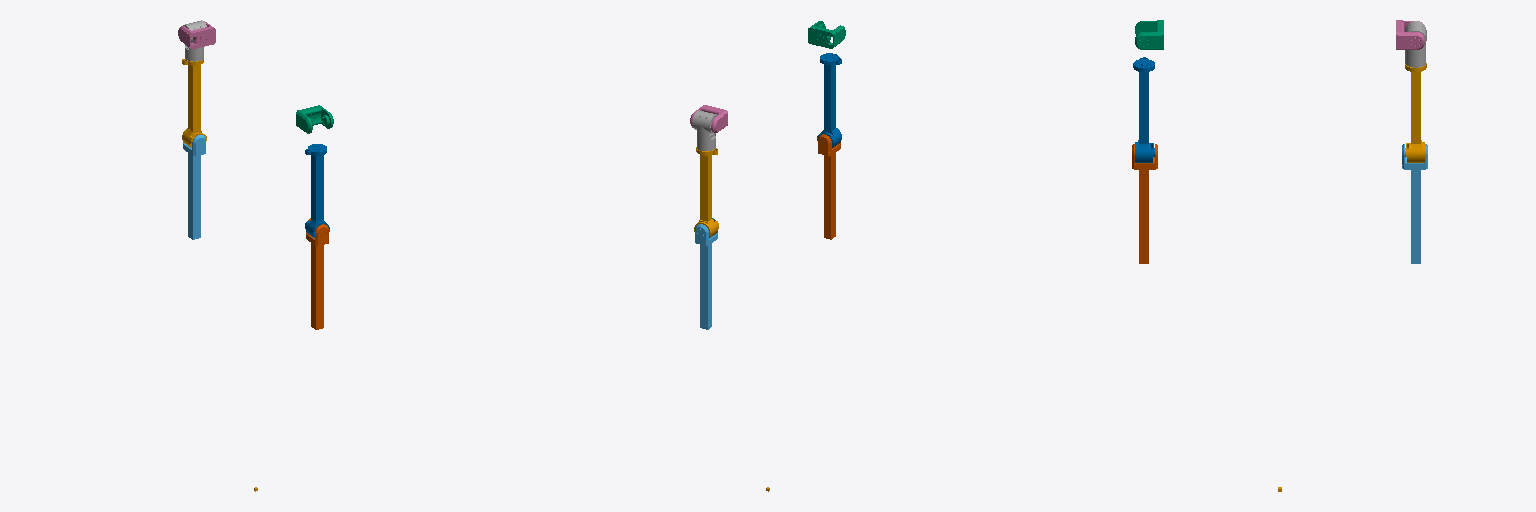
URDF robot description (both_arm_baymax_skeleton):
<?xml version="1.0" ?>
<!-- =================================================================================== -->
<!-- |    This document was autogenerated by xacro from skeleton_v3.xacro              | -->
<!-- |    EDITING THIS FILE BY HAND IS NOT RECOMMENDED                                 | -->
<!-- =================================================================================== -->
<robot name="both_arm_baymax_skeleton">
  <link name="base_link">
    <visual>
      <origin rpy="0 0 0" xyz="0 0 0"/>
      <geometry>
        <box size="0.01 0.01 0.01"/>
      </geometry>
      <material name="invisible"/>
    </visual>
    <collision>
      <origin rpy="0 0 0" xyz="0 0 0"/>
      <geometry>
        <box size="0.01 0.01 0.01"/>
      </geometry>
    </collision>
    <inertial>
      <origin rpy="0 0 0" xyz="0 0 0"/>
      <mass value="0.001"/>
      <inertia ixx="1e-6" ixy="0" ixz="0" iyy="1e-6" iyz="0" izz="1e-6"/>
    </inertial>
  </link>
  <joint name="main_body_joint" type="fixed">
    <parent link="base_link"/>
    <child link="main_body"/>
    <origin rpy="0 0 0" xyz="0 0 0"/>
  </joint>
  <link name="main_body">
    <visual>
      <origin rpy="0 0 0" xyz="0 0 0"/>
      <geometry>
        <mesh filename="package://my_robot_bringup/description/meshes/skeleton_v3/new_main_body.stl" scale="0.001 0.001 0.001"/>
      </geometry>
      <material name="silver"/>
    </visual>
    <collision>
      <origin rpy="0 0 0" xyz="0 0 0"/>
      <geometry>
        <!-- <box size="0.5 0.5 0.5"/> -->
        <mesh filename="package://my_robot_bringup/description/meshes/skeleton_v3/main_body_collision.stl" scale="0.01 0.01 0.01"/>
      </geometry>
    </collision>
  </link>
  <!--RIGHT ARM-->
  <joint name="right_shoulder_pitch_joint" type="revolute">
    <parent link="main_body"/>
    <child link="right_shoulder_pitch"/>
    <origin rpy="0 0 0" xyz="0.0 -0.352 1.52"/>
    <axis xyz="0 -1 0"/>
    <!-- <limit lower="-0.69" upper="1.57" effort="100" velocity="10"/> -->
    <limit effort="100" lower="0.0" upper="1.57" velocity="10"/>
  </joint>
  <link name="right_shoulder_pitch">
    <visual>
      <origin rpy="0 0 0" xyz="0.0 0.0 0.0"/>
      <geometry>
        <mesh filename="package://my_robot_bringup/description/meshes/skeleton_v3/right_shoulder_pitch.stl"/>
      </geometry>
      <material name="silver"/>
    </visual>
    <collision>
      <origin rpy="0 0 0" xyz="0.0 0.0 0.0"/>
      <geometry>
        <box size="0.05 0.05 0.05"/>
      </geometry>
    </collision>
  </link>
  <joint name="right_shoulder_roll_joint" type="revolute">
    <parent link="right_shoulder_pitch"/>
    <child link="right_shoulder_roll"/>
    <origin rpy="0 0 0" xyz="0.0 -0.06 0.0"/>
    <axis xyz="-1 0 0"/>
    <limit effort="100" lower="0.0" upper="1.57" velocity="10"/>
    <!-- <limit lower="-1.57" upper="0.0" effort="100" velocity="10"/> -->
  </joint>
  <link name="right_shoulder_roll">
    <visual>
      <origin rpy="0 0 0" xyz="0.0 0.0 0.0"/>
      <geometry>
        <mesh filename="package://my_robot_bringup/description/meshes/skeleton_v3/right_shoulder_roll.stl"/>
      </geometry>
      <material name="silver"/>
    </visual>
    <collision>
      <origin rpy="0 0 0" xyz="0.0 0.0 0.0"/>
      <geometry>
        <box size="0.05 0.05 0.05"/>
      </geometry>
    </collision>
  </link>
  <joint name="right_shoulder_yaw_joint" type="revolute">
    <parent link="right_shoulder_roll"/>
    <child link="right_shoulder_yaw"/>
    <origin rpy="0 0 0" xyz="0.0 0.0 -0.0948"/>
    <axis xyz="0 0 -1"/>
    <limit effort="100" lower="-1.57" upper="0.80" velocity="10"/>
  </joint>
  <link name="right_shoulder_yaw">
    <visual>
      <origin rpy="0 0 0" xyz="0.0 0.0 0.0"/>
      <geometry>
        <mesh filename="package://my_robot_bringup/description/meshes/skeleton_v3/right_shoulder_yaw.stl"/>
      </geometry>
      <material name="silver"/>
    </visual>
    <collision>
      <origin rpy="0 0 0" xyz="0.0 0.0 0.0"/>
      <geometry>
        <box size="0.05 0.05 0.05"/>
      </geometry>
    </collision>
  </link>
  <joint name="right_elbow_joint" type="revolute">
    <parent link="right_shoulder_yaw"/>
    <child link="right_elbow"/>
    <origin rpy="0 0 0" xyz="0.0 0.0 -0.2971"/>
    <axis xyz="0 -1 0"/>
    <limit effort="100" lower="0.0" upper="1.57" velocity="10"/>
  </joint>
  <link name="right_elbow">
    <visual>
      <origin rpy="0 0 0" xyz="0.0 0.0 0.0"/>
      <geometry>
        <mesh filename="package://my_robot_bringup/description/meshes/skeleton_v3/right_elbow.stl"/>
      </geometry>
      <material name="silver"/>
    </visual>
    <collision>
      <origin rpy="0 0 0" xyz="0.0 0.0 -0.35"/>
      <geometry>
        <box size="0.05 0.05 0.05"/>
        <!-- <mesh filename="package://my_robot_bringup/description/meshes/skeleton_v3/right_elbow.stl" /> -->
      </geometry>
    </collision>
  </link>
  <!--LEFT ARM-->
  <joint name="left_shoulder_pitch_joint" type="revolute">
    <parent link="main_body"/>
    <child link="left_shoulder_pitch"/>
    <origin rpy="0 0 0" xyz="0.0 0.352 1.52"/>
    <axis xyz="0 1 0"/>
    <!-- <limit lower="-1.57" upper="0.69" effort="100" velocity="10"/> -->
    <limit effort="100" lower="-1.57" upper="0.0" velocity="10"/>
  </joint>
  <link name="left_shoulder_pitch">
    <visual>
      <origin rpy="0 0 0" xyz="0.0 0.0 0.0"/>
      <geometry>
        <mesh filename="package://my_robot_bringup/description/meshes/skeleton_v3/left_shoulder_pitch.stl"/>
      </geometry>
      <material name="silver"/>
    </visual>
    <collision>
      <origin rpy="0 0 0" xyz="0.0 0.0 0.0"/>
      <geometry>
        <box size="0.05 0.05 0.05"/>
      </geometry>
    </collision>
  </link>
  <joint name="left_shoulder_roll_joint" type="revolute">
    <parent link="left_shoulder_pitch"/>
    <child link="left_shoulder_roll"/>
    <origin rpy="0 0 0" xyz="0.0 0.06 0.0"/>
    <axis xyz="-1 0 0"/>
    <limit effort="100" lower="-1.57" upper="0.0" velocity="10"/>
    <!-- <limit lower="0.0" upper="1.57" effort="100" velocity="10"/> -->
  </joint>
  <link name="left_shoulder_roll">
    <visual>
      <origin rpy="0 0 0" xyz="0.0 0.0 0.0"/>
      <geometry>
        <mesh filename="package://my_robot_bringup/description/meshes/skeleton_v3/left_shoulder_roll.stl"/>
      </geometry>
      <material name="silver"/>
    </visual>
    <collision>
      <origin rpy="0 0 0" xyz="0.0 0.0 0.0"/>
      <geometry>
        <box size="0.05 0.05 0.05"/>
      </geometry>
    </collision>
  </link>
  <joint name="left_shoulder_yaw_joint" type="revolute">
    <parent link="left_shoulder_roll"/>
    <child link="left_shoulder_yaw"/>
    <origin rpy="0 0 0" xyz="0.0 0.0 -0.0948"/>
    <axis xyz="0 0 -1"/>
    <limit effort="100" lower="-0.80" upper="1.57" velocity="10"/>
  </joint>
  <link name="left_shoulder_yaw">
    <visual>
      <origin rpy="0 0 0" xyz="0.0 0.0 0.0"/>
      <geometry>
        <mesh filename="package://my_robot_bringup/description/meshes/skeleton_v3/left_shoulder_yaw.stl"/>
      </geometry>
      <material name="silver"/>
    </visual>
    <collision>
      <origin rpy="0 0 0" xyz="0.0 0.0 0.0"/>
      <geometry>
        <box size="0.05 0.05 0.05"/>
      </geometry>
    </collision>
  </link>
  <joint name="left_elbow_joint" type="revolute">
    <parent link="left_shoulder_yaw"/>
    <child link="left_elbow"/>
    <origin rpy="0 0 0" xyz="0.0 0.0 -0.2971"/>
    <axis xyz="0 1 0"/>
    <limit effort="100" lower="-1.57" upper="0.0" velocity="10"/>
  </joint>
  <link name="left_elbow">
    <visual>
      <origin rpy="0 0 0" xyz="0.0 0.0 0.0"/>
      <geometry>
        <mesh filename="package://my_robot_bringup/description/meshes/skeleton_v3/left_elbow.stl"/>
      </geometry>
      <material name="silver"/>
    </visual>
    <collision>
      <origin rpy="0 0 0" xyz="0.0 0.0 -0.35"/>
      <geometry>
        <box size="0.05 0.05 0.05"/>
      </geometry>
    </collision>
  </link>
</robot>

--- Render facts (derived) ---
3 views of the same robot in one strip: view 1: azimuth 30°, elevation 25°; view 2: azimuth 150°, elevation 25°; view 3: azimuth 270°, elevation 25° (orthographic).
Model both_arm_baymax_skeleton with 10 links and 9 joints (8 revolute, 1 fixed), rooted at base_link, posed all joints at 0.
Visible links, largest first — view 1: right_elbow, left_elbow, right_shoulder_yaw, left_shoulder_yaw, right_shoulder_pitch, left_shoulder_pitch; view 2: left_elbow, right_elbow, right_shoulder_yaw, left_shoulder_yaw, left_shoulder_roll, right_shoulder_pitch; view 3: right_shoulder_yaw, right_elbow, left_elbow, left_shoulder_yaw, right_shoulder_pitch, left_shoulder_pitch, left_shoulder_roll.
Boxes of the visible links, box(x1,y1,x2,y2) form: right_elbow: box(306, 218, 328, 329); left_elbow: box(183, 135, 205, 239); right_shoulder_yaw: box(305, 144, 329, 237); left_shoulder_yaw: box(182, 59, 206, 147); right_shoulder_pitch: box(296, 105, 333, 133); left_shoulder_pitch: box(178, 21, 215, 49); left_elbow: box(695, 218, 717, 329); right_elbow: box(818, 134, 840, 239); right_shoulder_yaw: box(817, 53, 841, 147); left_shoulder_yaw: box(694, 147, 718, 237); left_shoulder_roll: box(692, 110, 716, 150); right_shoulder_pitch: box(808, 21, 845, 48); right_shoulder_yaw: box(1133, 57, 1154, 162); right_elbow: box(1132, 144, 1157, 263); left_elbow: box(1402, 144, 1427, 263); left_shoulder_yaw: box(1405, 63, 1426, 162); right_shoulder_pitch: box(1135, 20, 1163, 49); left_shoulder_pitch: box(1396, 20, 1424, 49); left_shoulder_roll: box(1405, 21, 1426, 67).
Bounding box of the posed robot: 0.1 × 0.9 × 1.56 m (x, y, z).
7 mesh visuals loaded from 9 distinct referenced files (7 binary STL); not drawn: 2 (reference not matched to a file when rendering).
